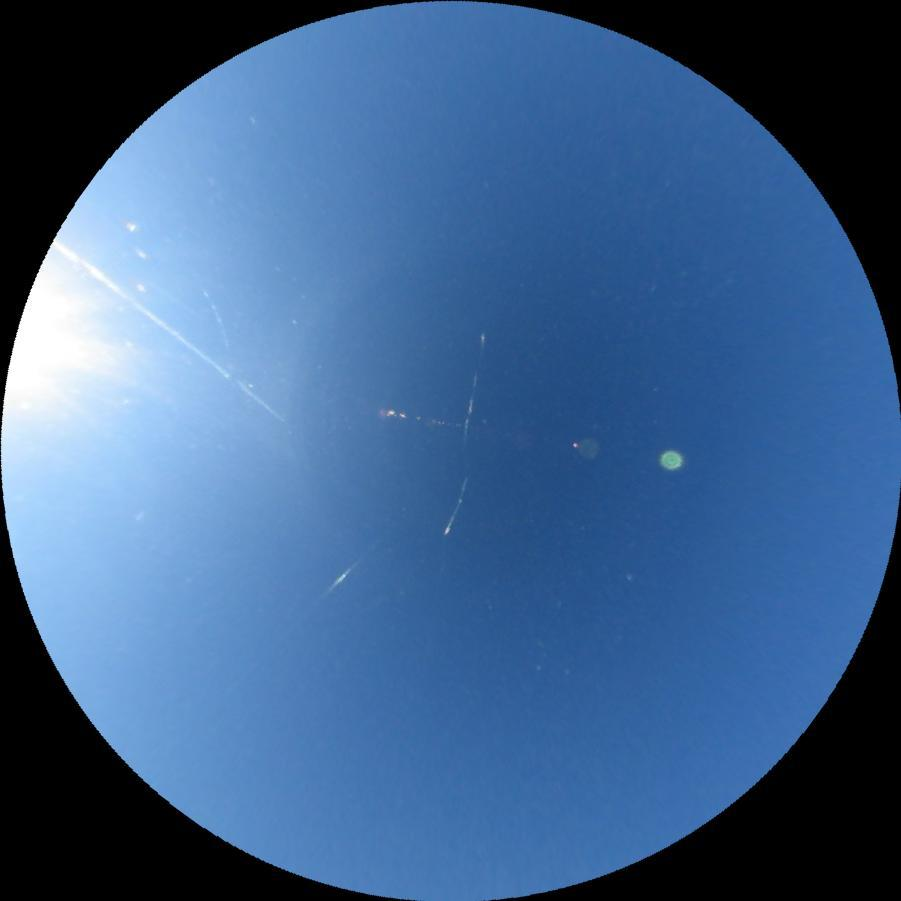parasite: (50, 236, 290, 425), (460, 330, 486, 447), (441, 476, 472, 536), (202, 288, 232, 348), (320, 556, 362, 597)
sun: (0, 274, 93, 419)
